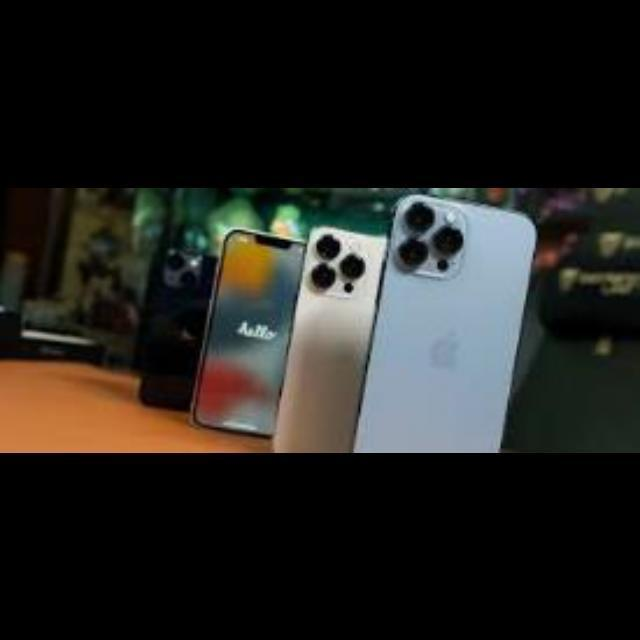phone: (194, 202, 310, 448)
